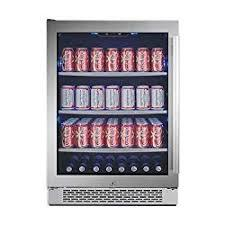beer: (61, 116, 165, 149), (61, 85, 164, 110), (62, 47, 165, 71)
